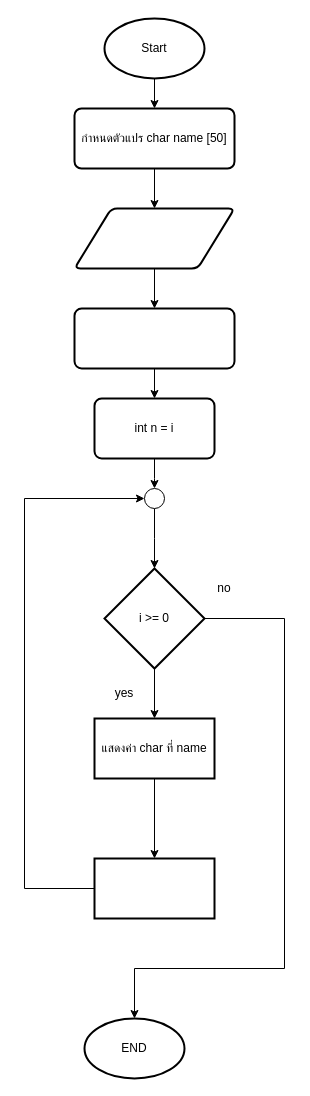
Image size: 310x1096. Some labels were removed from this diagram. Each missing label, with the centre of its shape:
"i - 1" belongs at point 154,888.
"กำหนดตัวแปร มารับค่า strlen ในการเช็คระยะของคำในตัวแปรที่รับมา" belongs at point 154,338.
"แสดง Enter Name เก็บในตัวแปร name" belongs at point 154,238.
